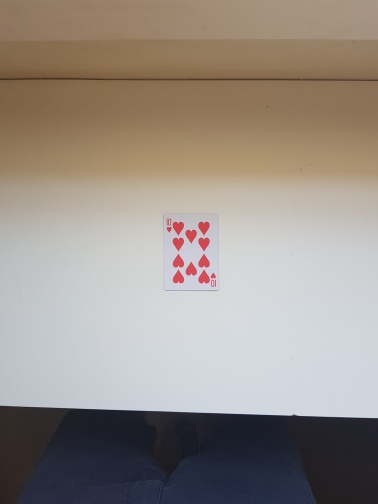ten: (161, 212, 220, 291)
